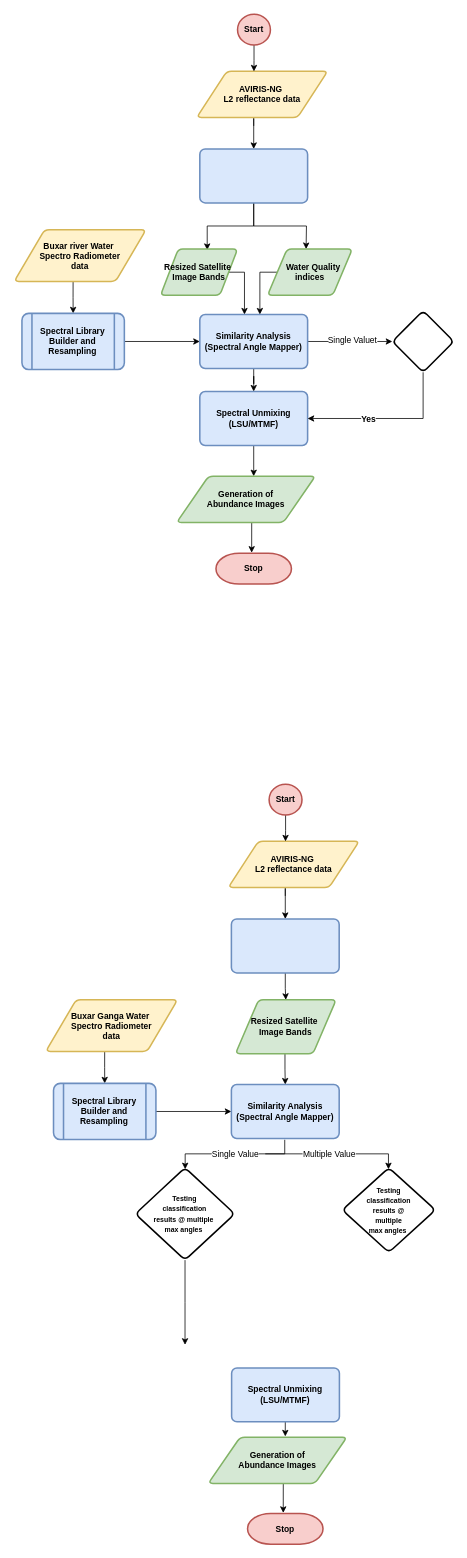
Some shapes in this 467 by 1558 pixel diagram are drawn without their labels. The centre of each missing label's shape, as x and y in pixels:
Noisy bands filtering/removal: the point at 285,945
Noisy bands/absorption bands filtering: the point at 253,175
Similar: the point at 422,341
